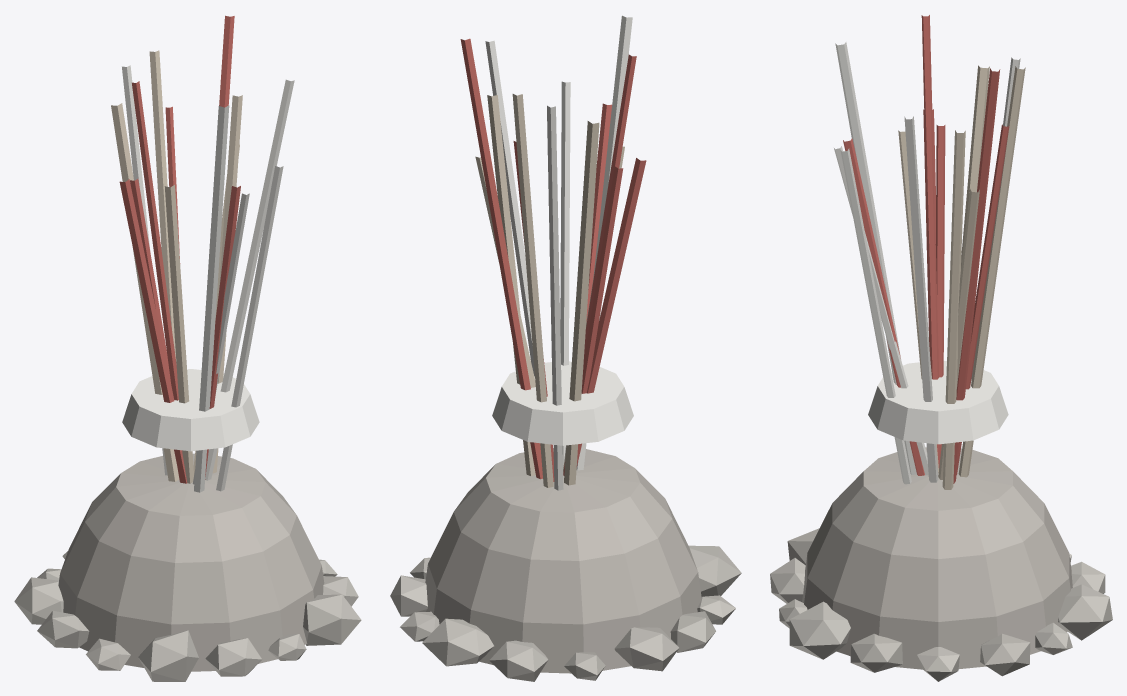
3 views of the same model, side by side, from view 1: azimuth 30°, elevation 25°; view 2: azimuth 150°, elevation 25°; view 3: azimuth 270°, elevation 25° (orthographic). The views are drawn at different scales.
Parts seen in each view (by area): view 1: WB_lhatse; view 2: WB_lhatse; view 3: WB_lhatse.
Part boxes in pixels (left/top/right/bottom): WB_lhatse: left=14, top=15, right=361, bottom=681; WB_lhatse: left=390, top=15, right=741, bottom=681; WB_lhatse: left=770, top=15, right=1112, bottom=681.
Size of the model in its own units: 5.33 by 10.04 by 5.37.
